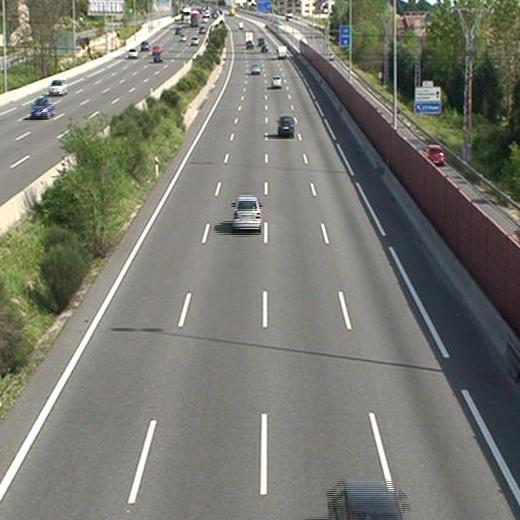car: (229, 196, 263, 232), (278, 114, 297, 137), (250, 63, 263, 74), (272, 76, 283, 87)
